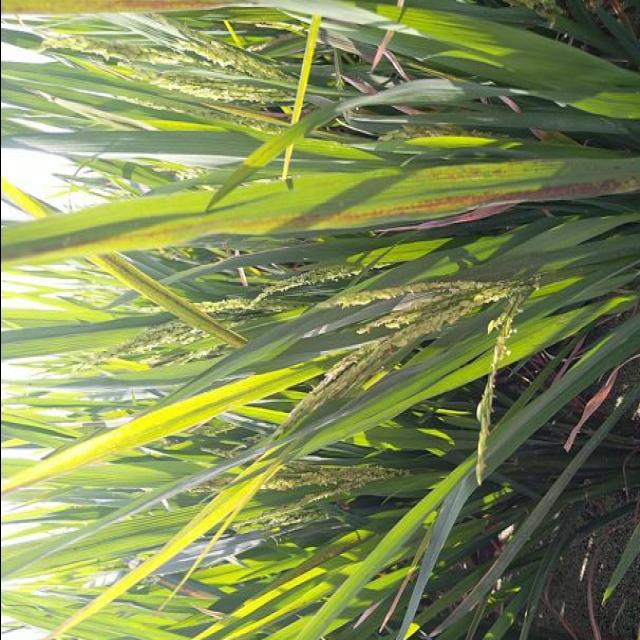Leaf Streak: (37, 177, 640, 257), (94, 252, 247, 350), (266, 530, 368, 589), (414, 158, 548, 189), (0, 0, 237, 14)
